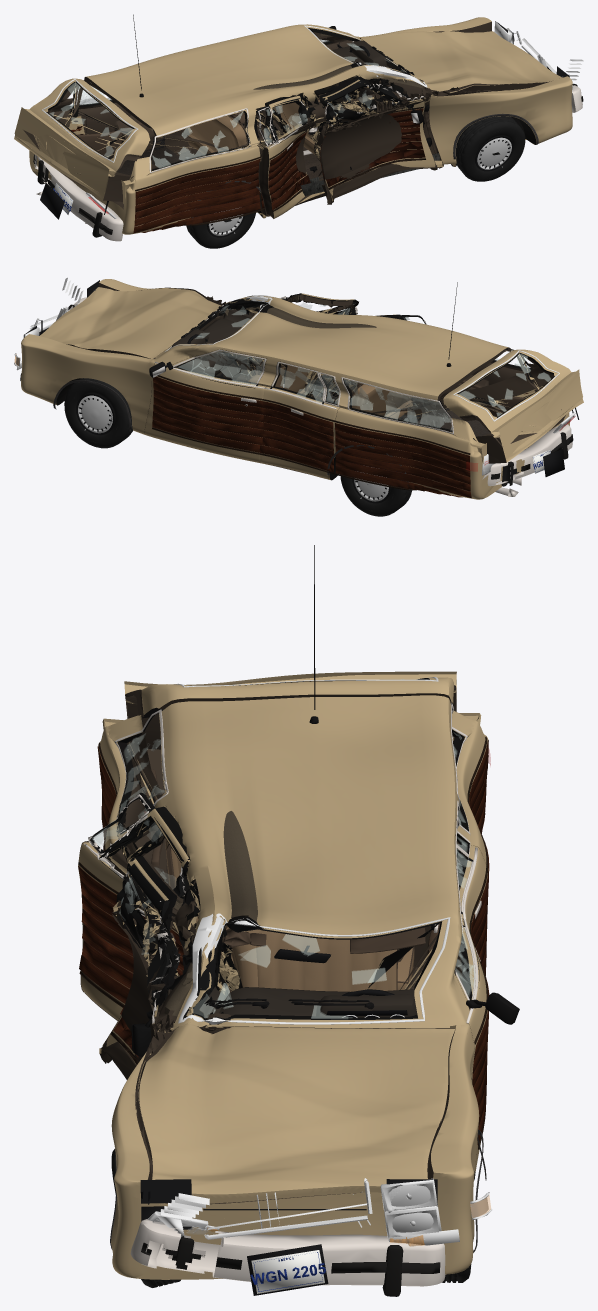
The model's file is wagon82_side_R_d2_lod1.glb.
3 renders of one model, top to bottom at view 1: azimuth 30°, elevation 25°; view 2: azimuth 150°, elevation 25°; view 3: azimuth 270°, elevation 25°, orthographic. The views are drawn at different scales.
Parts seen in each view (by area): view 1: Body, Hood, Trim, Door_FR, Tailgate, Interior, Wheel_FR_mesh, Door_RR, Bumper_R, Trim_FR, Trim_RR, Glass (+7 smaller); view 2: Body, Trim, Hood, Tailgate, Trim_FL, Interior, Trim_RL, Wheel_FL_mesh, Door_FL, Glass, Door_RL, Bumper_R (+7 smaller); view 3: Body, Hood, Interior, Ends, Bumper_F, Tailgate, Glass, Door_FR, Trim_RR, Trim, Door_RR, Trim_FL (+6 smaller).
Boxes of the visible parts, x1,y1,x2,y2 form: Body: (29, 17, 572, 234); Hood: (360, 31, 562, 96); Trim: (71, 14, 538, 233); Door_FR: (316, 76, 437, 204); Tailgate: (14, 78, 150, 201); Interior: (77, 40, 390, 175); Wheel_FR_mesh: (456, 116, 525, 181); Door_RR: (258, 95, 312, 218); Bumper_R: (33, 154, 123, 241); Trim_FR: (320, 82, 425, 189); Trim_RR: (258, 101, 310, 211); Glass: (69, 25, 427, 171); Body: (21, 279, 569, 499); Trim: (53, 282, 528, 498); Hood: (40, 287, 223, 358); Tailgate: (443, 349, 583, 463); Trim_FL: (149, 349, 266, 454); Interior: (172, 309, 525, 436); Trim_RL: (259, 362, 340, 472); Wheel_FL_mesh: (64, 378, 132, 448); Door_FL: (144, 349, 266, 462); Glass: (165, 295, 529, 431); Door_RL: (260, 361, 339, 479); Bumper_R: (482, 424, 573, 486); Body: (98, 695, 488, 1279); Hood: (138, 1024, 454, 1203); Interior: (148, 769, 425, 1017); Ends: (140, 737, 492, 1295); Bumper_F: (130, 1219, 445, 1296); Tailgate: (124, 671, 456, 800); Glass: (115, 703, 465, 1024); Door_FR: (99, 855, 183, 1079); Trim_RR: (78, 794, 185, 1007); Trim: (97, 545, 489, 1252); Door_RR: (78, 806, 189, 1020); Trim_FL: (455, 865, 519, 1149).
Bounding box in the file's own units: 5.15 × 2.08 × 1.94.
Materials: 35 (6 with a texture image).
